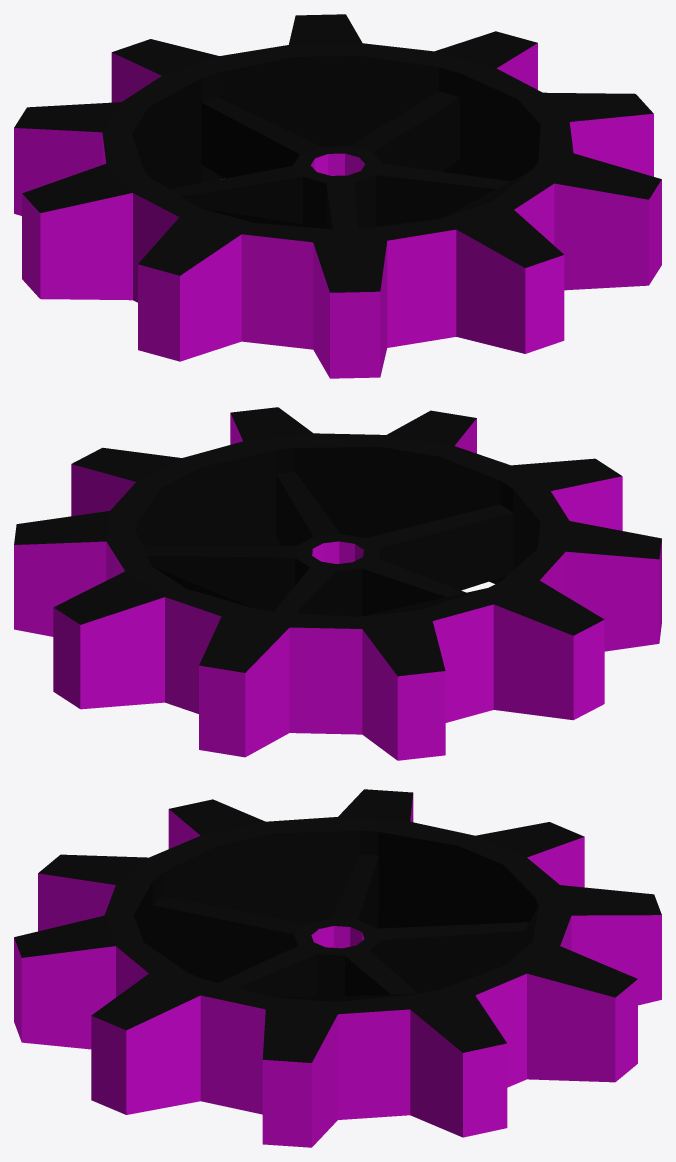
The model's file is D1GearV2.fbx.
3 views of the same model, one above another, from view 1: azimuth 30°, elevation 25°; view 2: azimuth 150°, elevation 25°; view 3: azimuth 270°, elevation 25° (orthographic).
Visible parts, largest first — view 1: D1GearV2; view 2: D1GearV2; view 3: D1GearV2.
Part boxes in pixels (x1,y1,x2,y2): D1GearV2: (14,14,661,378); D1GearV2: (14,407,661,760); D1GearV2: (14,789,661,1147).
Size of the model in its own units: 2.77 by 0.5 by 2.77.
